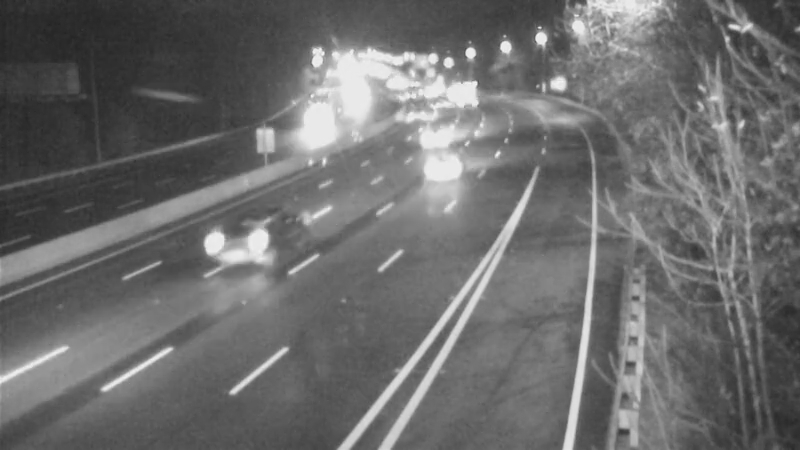vehicle: (406, 127, 486, 207), (198, 205, 278, 285), (439, 63, 489, 113), (415, 80, 465, 130), (393, 87, 443, 137), (408, 111, 458, 161), (289, 113, 339, 163)
